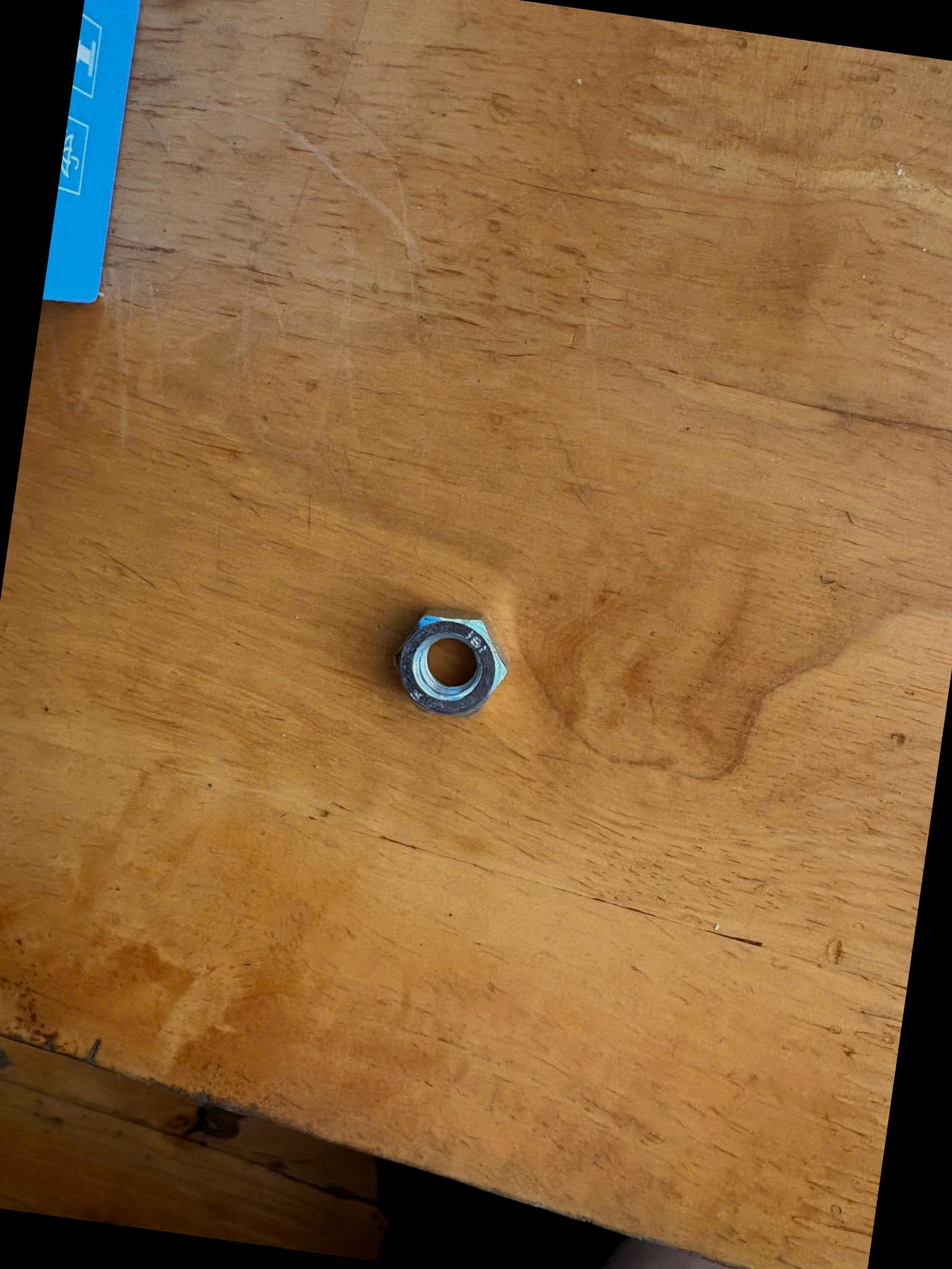nut: (386, 595, 509, 723)
